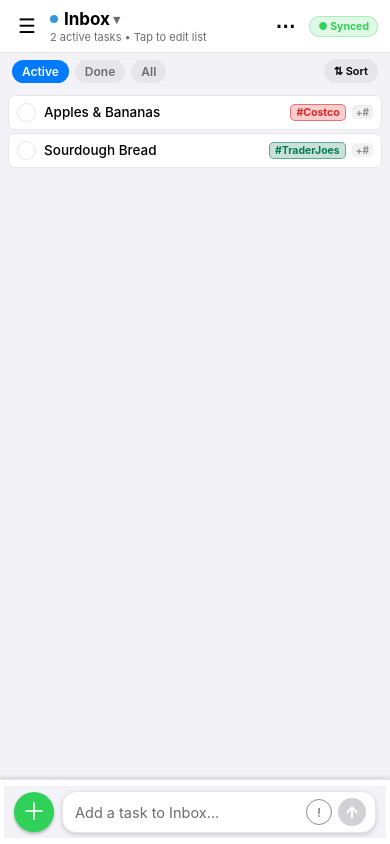
Scenario: ProjectTasksScreen › filters tasks by clicked label and allows clearing the filter
The width and height of the screenshot is (390, 844).
Expected: the text "Apples & Bananas" is shown, [44,104,160,120]
Expected: the text "Sourdough Bread" is shown, [44,142,157,158]
// Click label "Costco"
Click the element with test id "task-label-301-Costco": [318, 112] box [290,104,346,120]
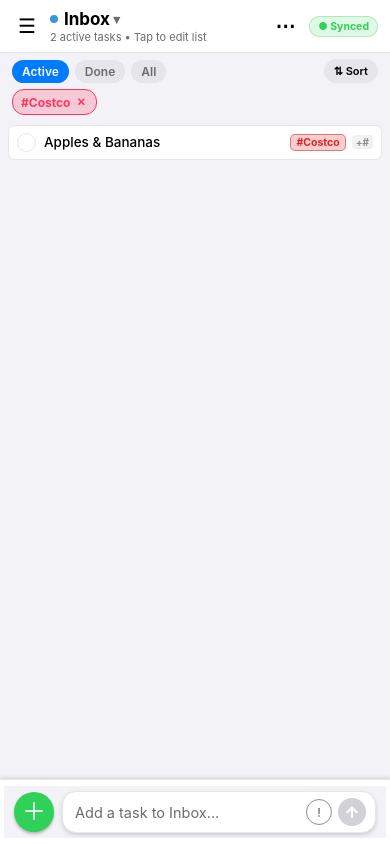
Expected: the text "Apples & Bananas" is shown, [44,134,160,150]
Now the text "Sourdough Bread" is gone
// Clear the label filter
Click the element with test id "clear-label-filter": [81, 102] box [76,95,86,109]
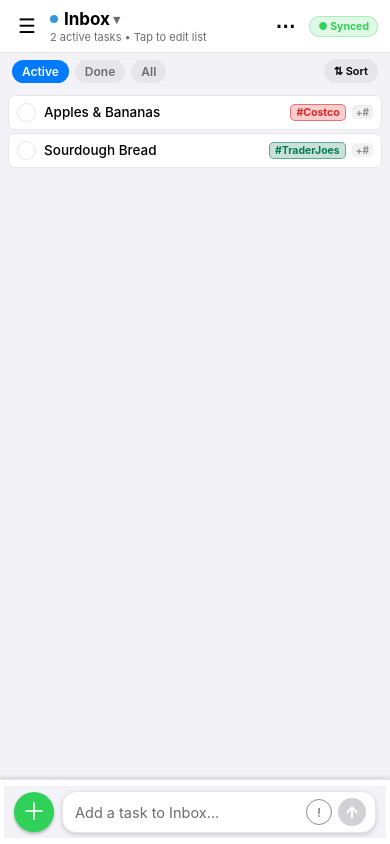
Expected: the text "Apples & Bananas" is shown, [44,104,160,120]
Now the text "Sourdough Bread" is shown, box [44,142,157,158]
